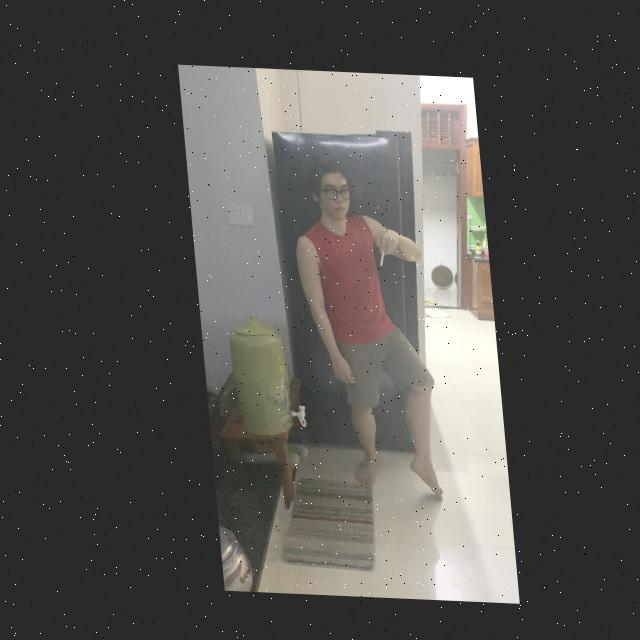cigarette: (373, 246, 380, 263)
